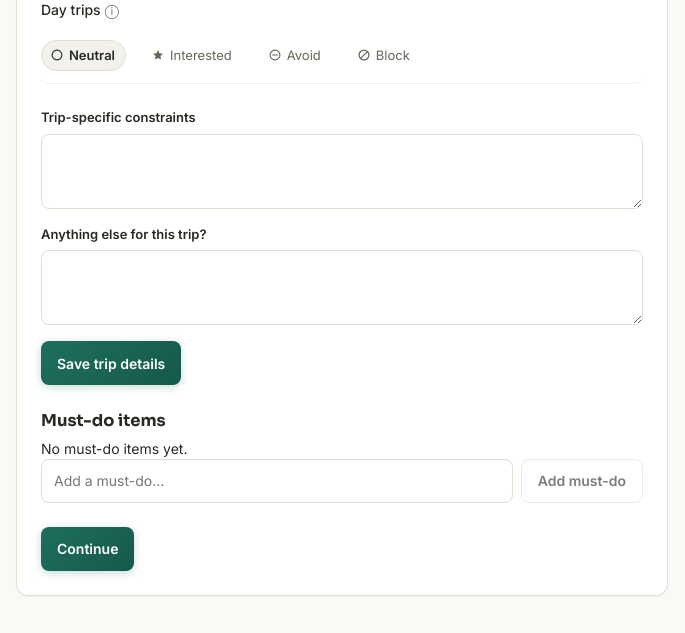
Test case: TripWizardPage › adds and removes a must-do item
The image size is (685, 633).
(page scrolled)
In the field named "add a must-do item": (277, 481) left=41, top=459, right=513, bottom=503, type "Eiffel Tower"
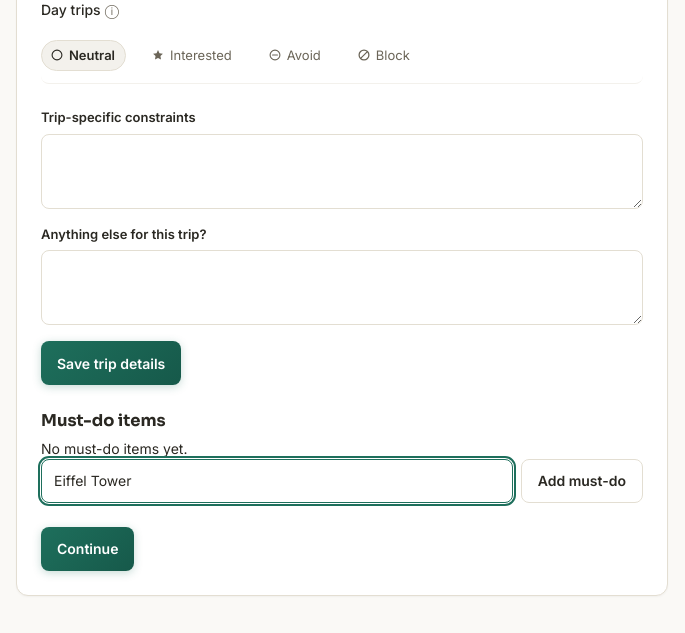
Click the button "Add must-do": (582, 481) left=521, top=459, right=643, bottom=503
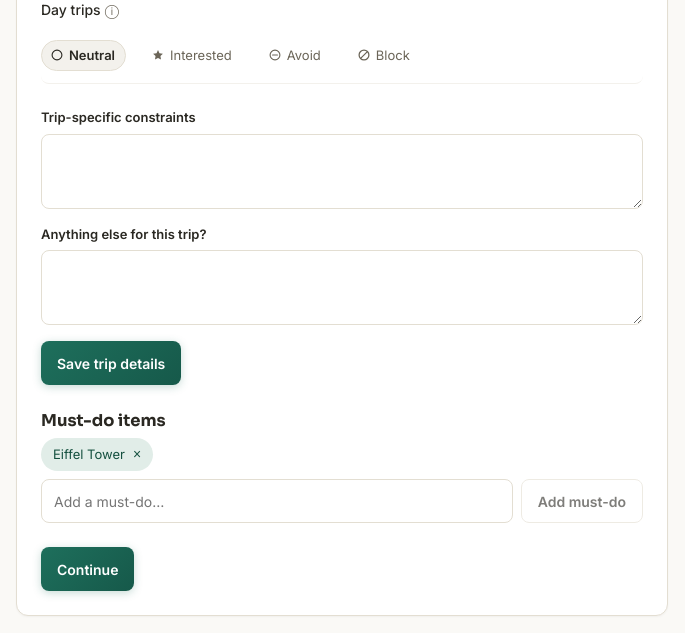
Check: the text "Eiffel Tower" is shown, box left=53, top=446, right=125, bottom=462
Click the button named "remove": (137, 454) left=133, top=447, right=141, bottom=461
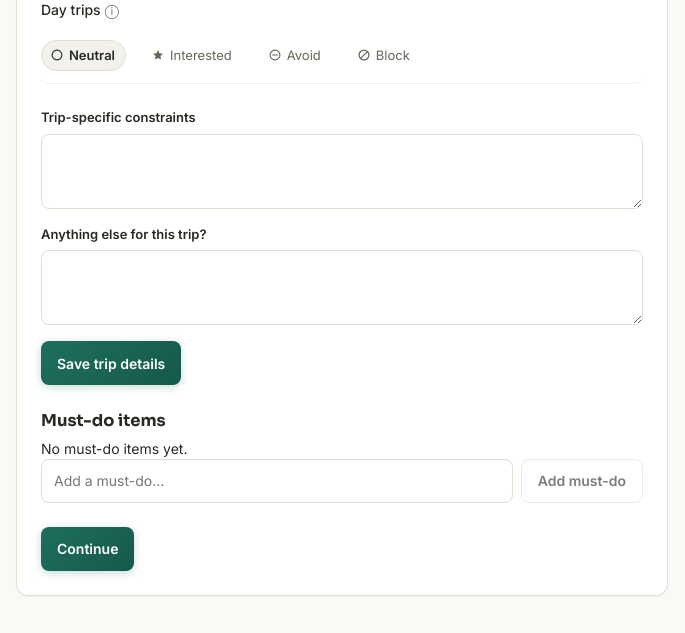
Check: the text "No must-do items yet." is shown, box left=41, top=440, right=187, bottom=457
